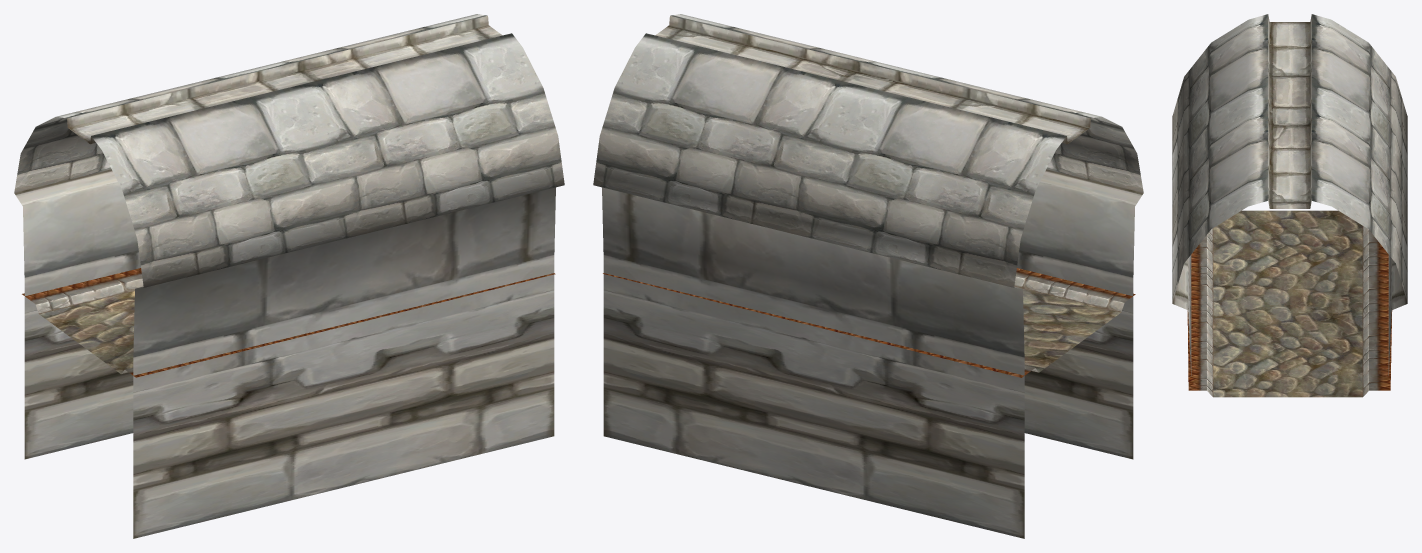
The model's file is stormwind_011.fbx.
3 views of the same model, side by side, from view 1: azimuth 30°, elevation 25°; view 2: azimuth 150°, elevation 25°; view 3: azimuth 270°, elevation 25° (orthographic). The views are drawn at different scales.
Parts seen in each view (by area): view 1: stormwind_011_11, stormwind_011_4, stormwind_011_5, stormwind_011_46, stormwind_011_12; view 2: stormwind_011_11, stormwind_011_4, stormwind_011_5, stormwind_011_46, stormwind_011_12; view 3: stormwind_011_4, stormwind_011_46, stormwind_011_5, stormwind_011_12, stormwind_011_11.
Part boxes in pixels (<box>): stormwind_011_11: <box>14,169,555,538</box>; stormwind_011_4: <box>14,14,564,287</box>; stormwind_011_5: <box>67,16,502,144</box>; stormwind_011_46: <box>39,291,134,373</box>; stormwind_011_12: <box>22,268,555,377</box>; stormwind_011_11: <box>602,169,1143,538</box>; stormwind_011_4: <box>593,14,1143,287</box>; stormwind_011_5: <box>655,16,1090,144</box>; stormwind_011_46: <box>1023,288,1120,372</box>; stormwind_011_12: <box>603,268,1135,377</box>; stormwind_011_4: <box>1172,14,1407,302</box>; stormwind_011_46: <box>1213,210,1362,397</box>; stormwind_011_5: <box>1268,16,1311,208</box>; stormwind_011_12: <box>1187,226,1392,396</box>; stormwind_011_11: <box>1172,255,1407,375</box>.
Bounding box in the file's own units: 18.89 × 15.95 × 10.07.
